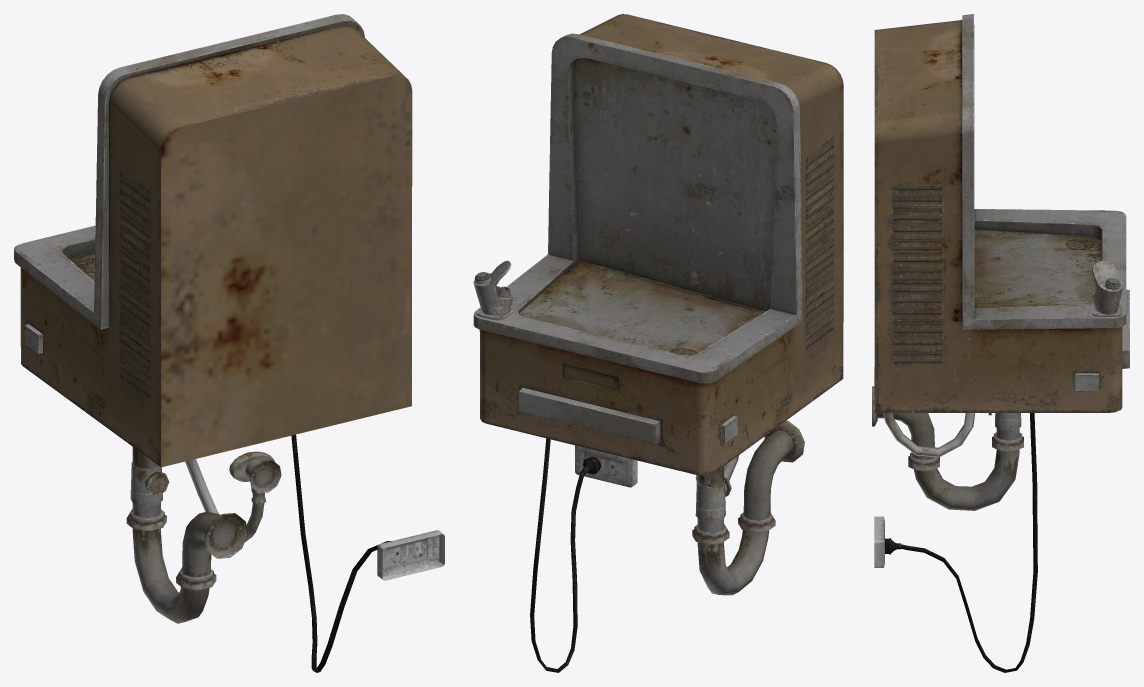
Rendered from 052_drinkingfountains.fbx.
3 views of the same model, side by side, from view 1: azimuth 30°, elevation 25°; view 2: azimuth 150°, elevation 25°; view 3: azimuth 270°, elevation 25° (orthographic). The views are drawn at different scales.
Parts seen in each view (by area): view 1: LOD_1_Group_0_Sub_1__sm31_052_DrinkingFountains01A_A_Mat; view 2: LOD_1_Group_0_Sub_1__sm31_052_DrinkingFountains01A_A_Mat; view 3: LOD_1_Group_0_Sub_1__sm31_052_DrinkingFountains01A_A_Mat.
Boxes of the visible parts, x1,y1,x2,y2 form: LOD_1_Group_0_Sub_1__sm31_052_DrinkingFountains01A_A_Mat: (14,14,444,672); LOD_1_Group_0_Sub_1__sm31_052_DrinkingFountains01A_A_Mat: (473,14,843,672); LOD_1_Group_0_Sub_1__sm31_052_DrinkingFountains01A_A_Mat: (872,14,1129,672).
Bounding box in the file's own units: 0.5476 × 1.2 × 0.4931.
